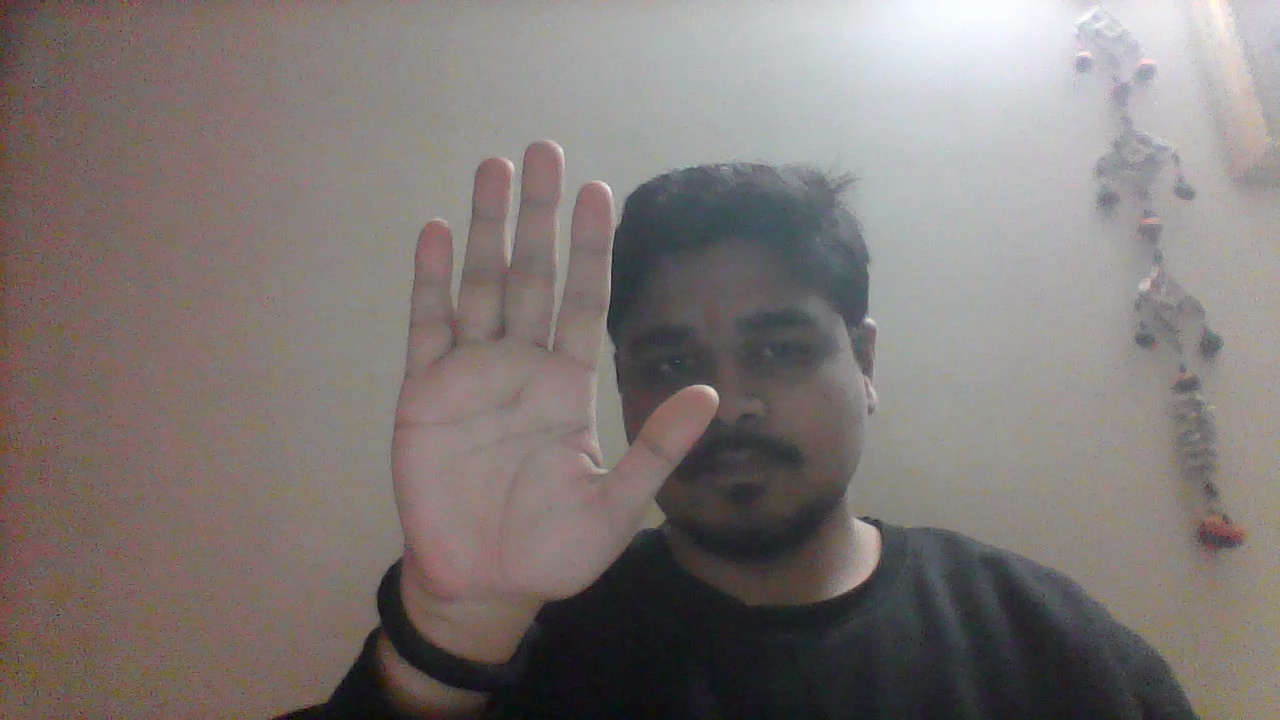Hello: (340, 134, 718, 609)
